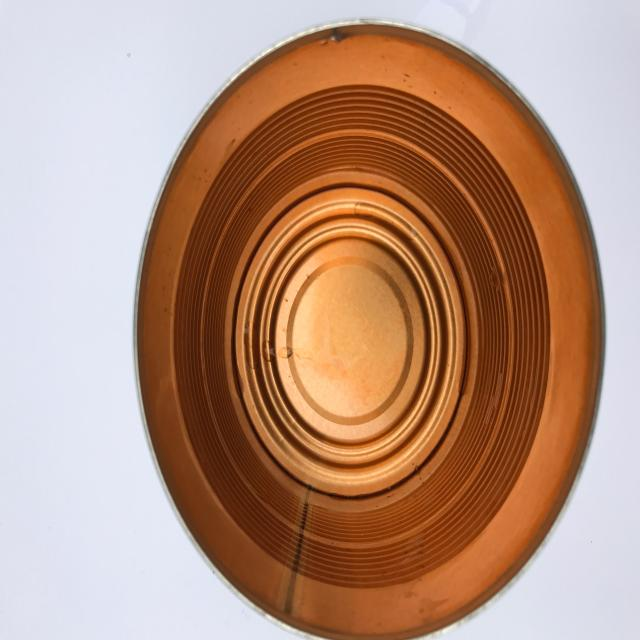metal: (133, 17, 606, 640)
